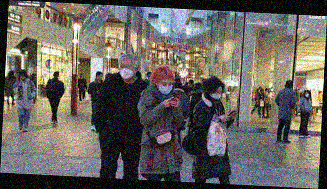with_mask: (118, 61, 136, 80), (157, 79, 174, 95), (210, 89, 223, 100), (303, 91, 311, 97), (79, 74, 84, 78)
without_mask: (187, 82, 194, 89), (97, 74, 104, 80), (19, 74, 26, 79)
